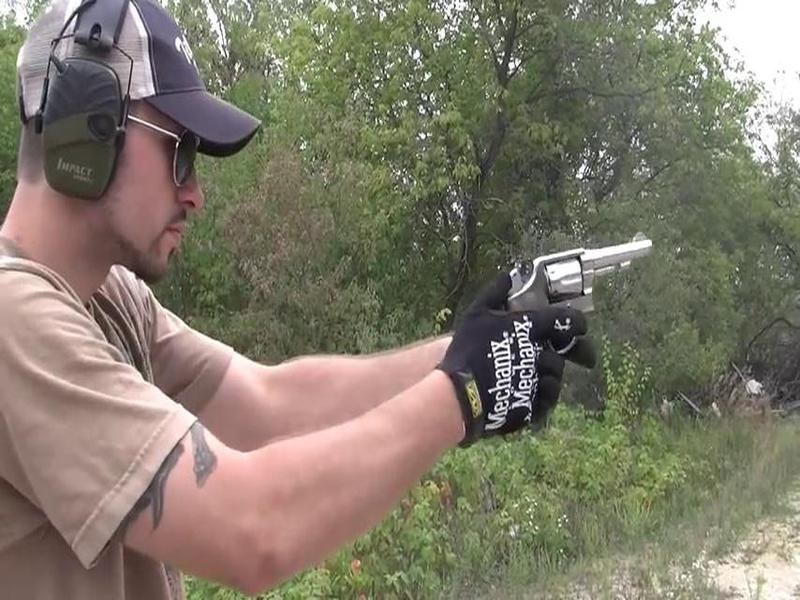Revolver: (471, 215, 657, 345)
